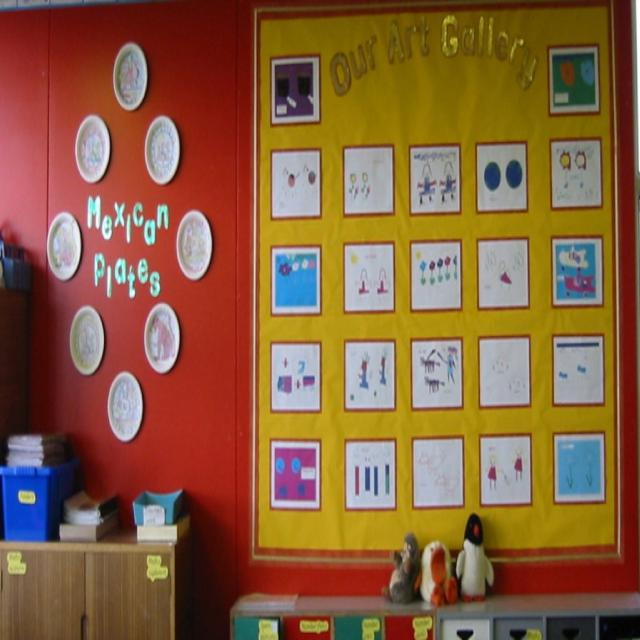desk: (6, 504, 180, 626)
